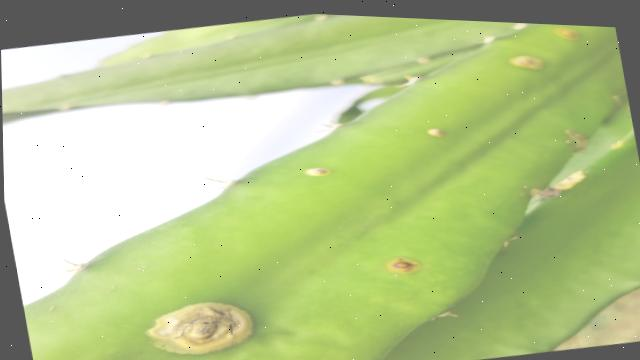stemcanker: (384, 252, 424, 278), (505, 53, 545, 73), (564, 130, 591, 154), (302, 166, 331, 179), (422, 126, 446, 140)
